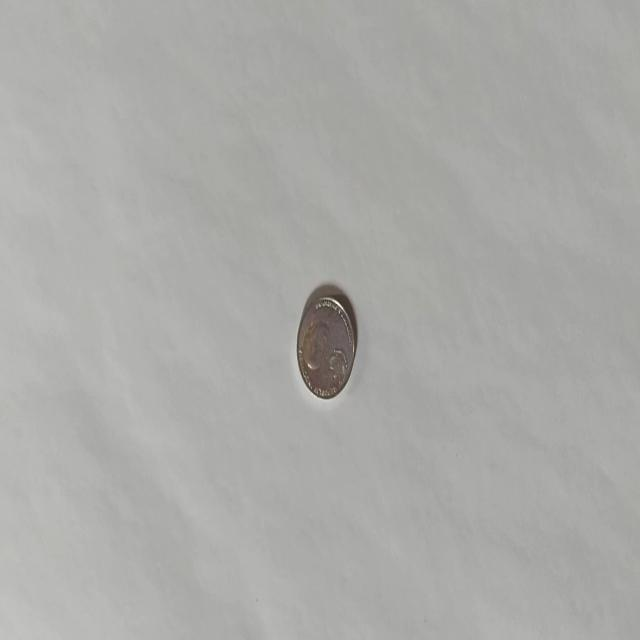lima ratus rupiah: (296, 291, 356, 401)
